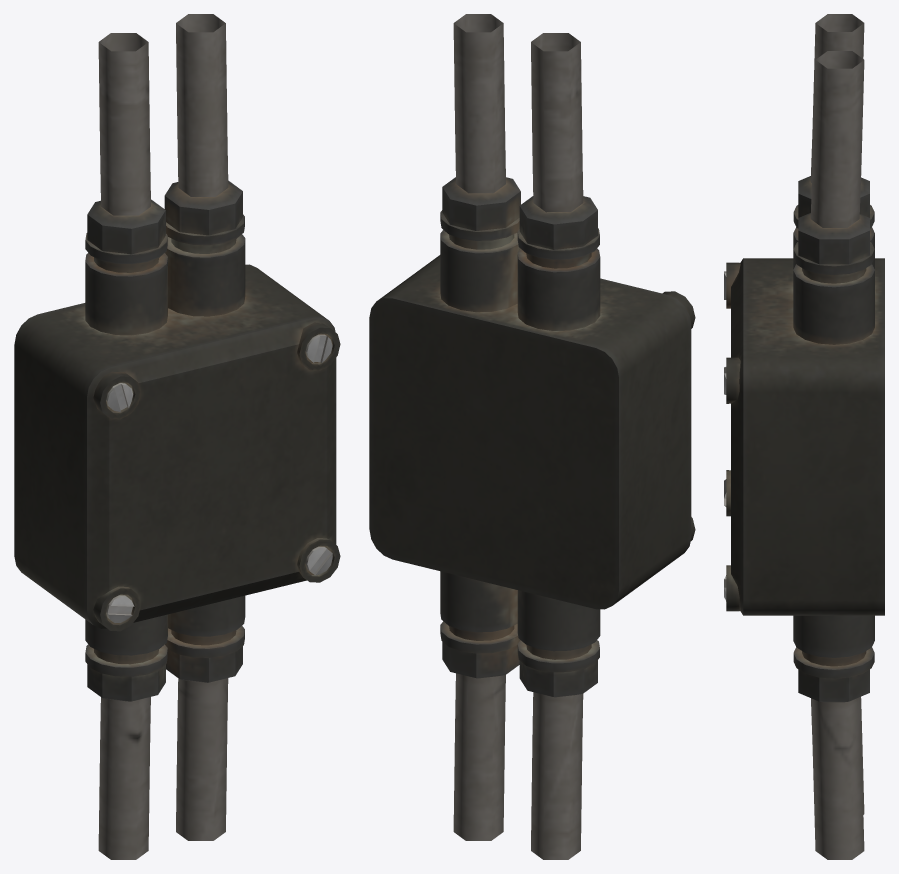
File: cable_box_double.glb
3 renders of one model, left to right at view 1: azimuth 30°, elevation 25°; view 2: azimuth 150°, elevation 25°; view 3: azimuth 270°, elevation 25°, orthographic. The views are drawn at different scales.
Parts seen in each view (by area): view 1: cable_box_double.001; view 2: cable_box_double.001; view 3: cable_box_double.001.
Part boxes in pixels (left/top/right/bottom): cable_box_double.001: left=14, top=14, right=340, bottom=859; cable_box_double.001: left=369, top=14, right=695, bottom=859; cable_box_double.001: left=724, top=14, right=884, bottom=859.
Size of the model in its own units: 0.0646 by 0.2 by 0.0369.
Materials: 1 (1 with a texture image).
